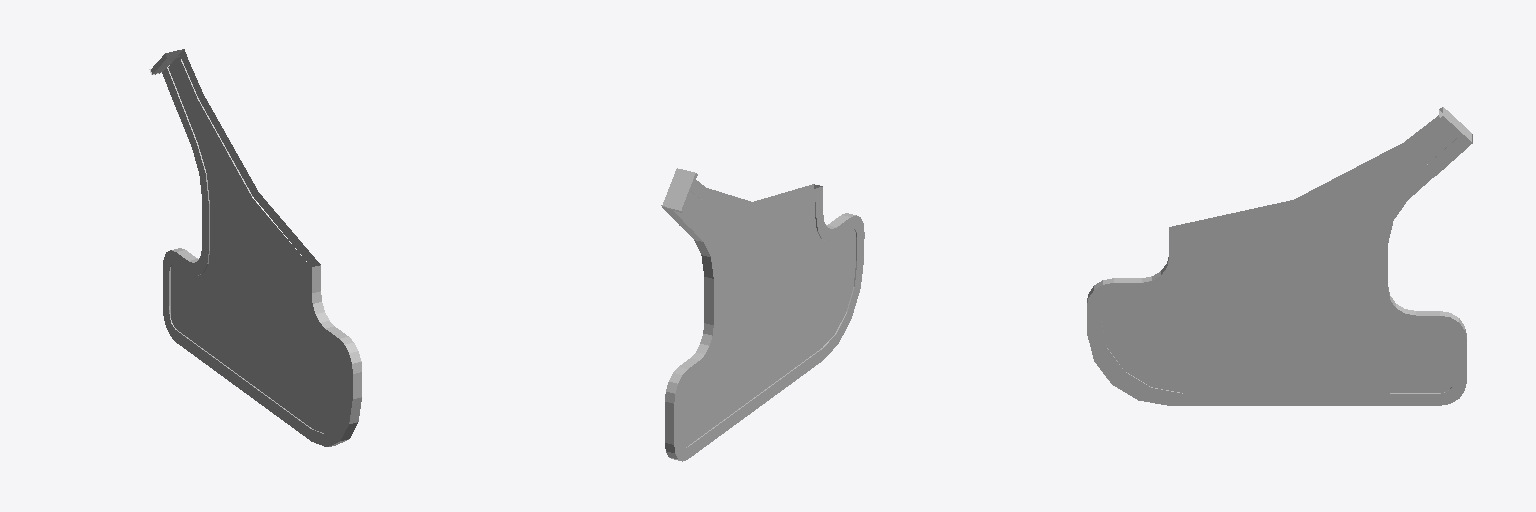
Rendered from front_bracket_1.obj.
The picture shows the model from 3 angles: view 1: azimuth 30°, elevation 25°; view 2: azimuth 150°, elevation 25°; view 3: azimuth 270°, elevation 25°; orthographic projection.
Visible parts, largest first — view 1: front_pipe_bracket; view 2: front_pipe_bracket; view 3: front_pipe_bracket.
Boxes of the visible parts, x1,y1,x2,y2 form: front_pipe_bracket: [149, 49, 361, 446]; front_pipe_bracket: [661, 168, 864, 461]; front_pipe_bracket: [1087, 107, 1472, 405].
Size of the model in its own units: 0.0001 by 0.0008 by 0.0009.